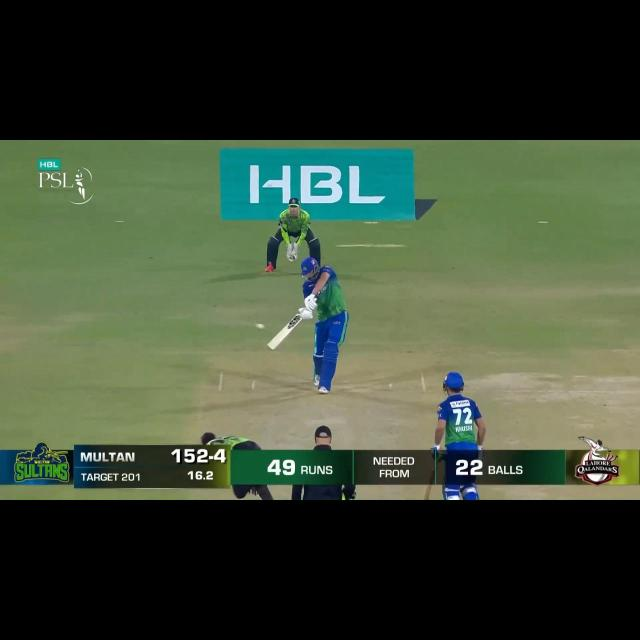bat: (268, 313, 304, 352)
toe: (267, 342, 276, 350)
